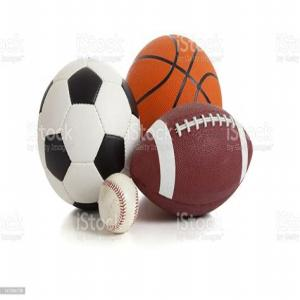Basket: (125, 32, 222, 141)
Football: (37, 54, 140, 211)
Rugby: (129, 104, 254, 217)
